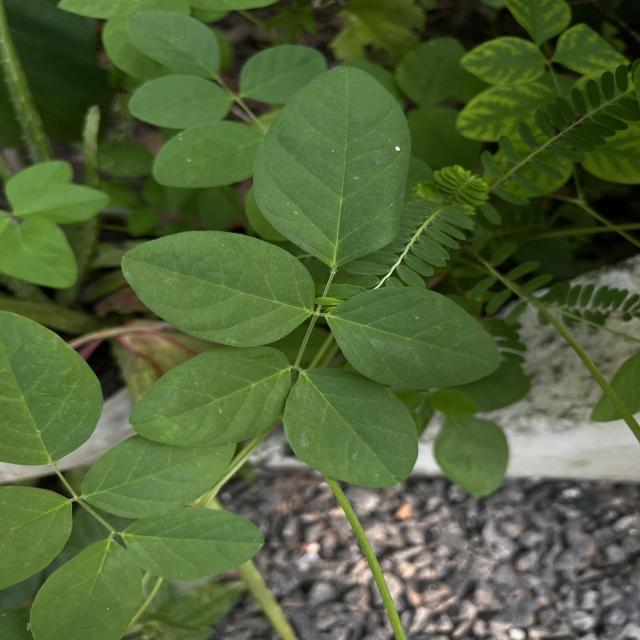Clitoria ternatea: (250, 63, 414, 270), (117, 228, 318, 348), (326, 284, 504, 392), (126, 344, 294, 450), (283, 364, 422, 490), (120, 506, 266, 584)
